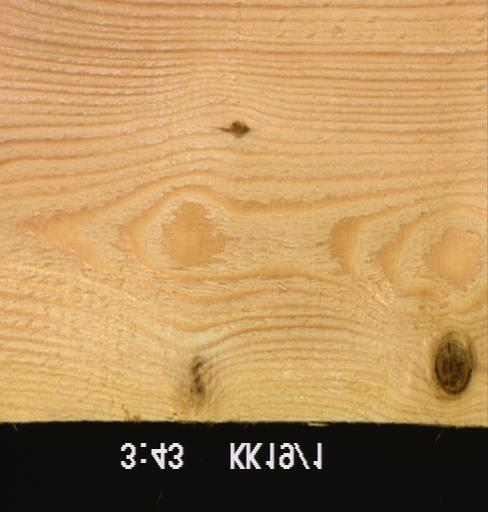dry_knot: (431, 337, 473, 397), (213, 119, 252, 140)
